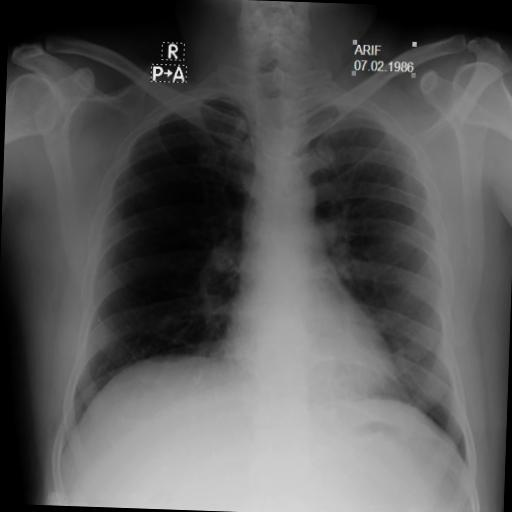normal: (44, 56, 488, 473)
